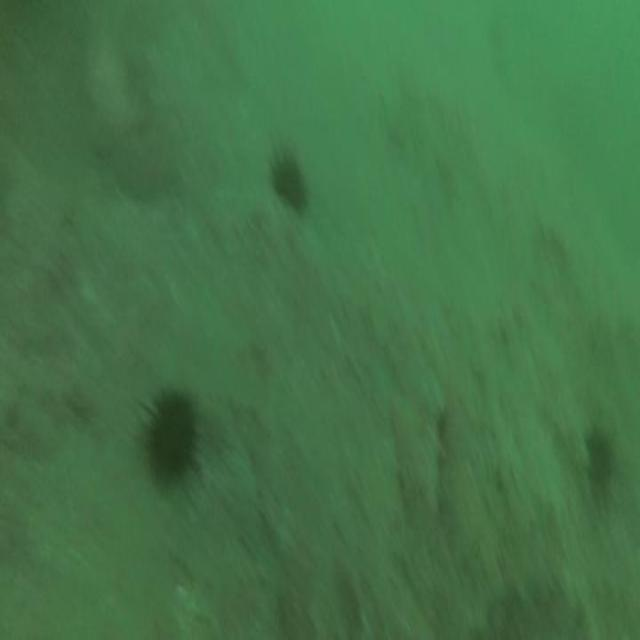echinus: (148, 392, 196, 477), (272, 157, 304, 210), (587, 428, 613, 482)
